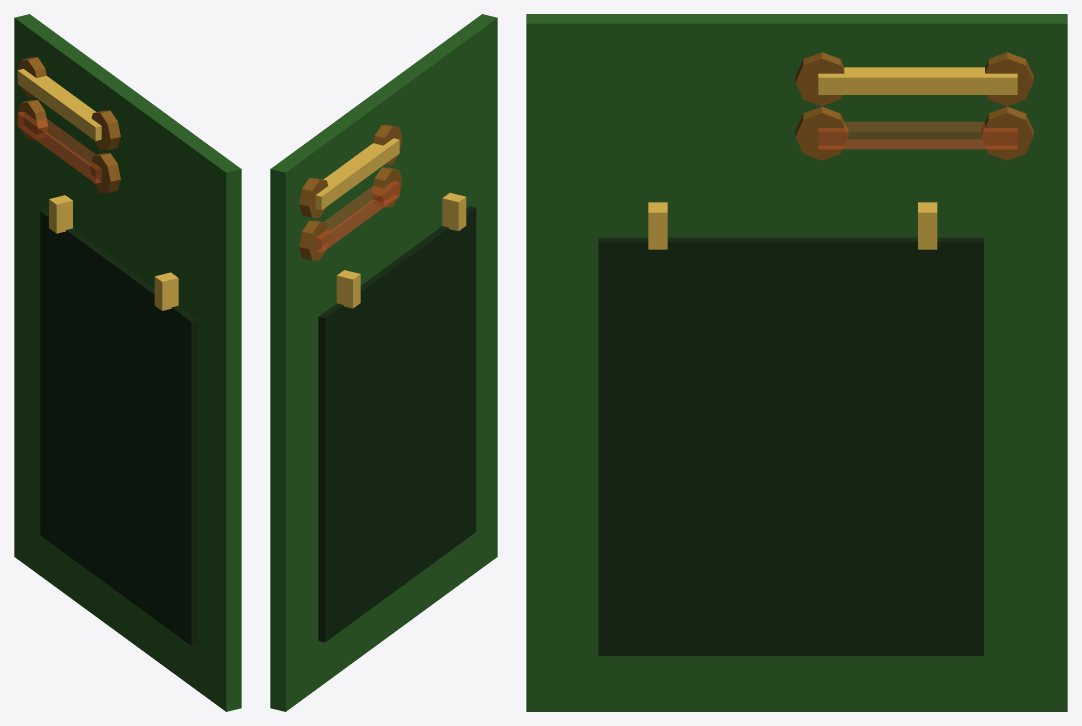
Rendered from potion7.glb.
3 views of the same model, side by side, from view 1: azimuth 30°, elevation 25°; view 2: azimuth 150°, elevation 25°; view 3: azimuth 270°, elevation 25° (orthographic). The views are drawn at different scales.
Visible parts, largest first — view 1: Cube.009, Cube.012, Cube.010, Cube.011, Cylinder.013, Cylinder.011, Cube.014, Cylinder.012, Cube.013, Cylinder.010; view 2: Cube.009, Cube.012, Cube.010, Cube.011, Cylinder.011, Cylinder.013, Cube.013, Cube.014, Cylinder.010, Cylinder.012; view 3: Cube.009, Cube.012, Cube.010, Cube.011, Cylinder.013, Cylinder.011, Cylinder.012, Cylinder.010, Cube.013, Cube.014.
Part boxes in pixels (x1=…): Cube.009: x1=14, y1=14, x2=241, y2=711; Cube.012: x1=40, y1=209, x2=197, y2=645; Cube.010: x1=17, y1=69, x2=101, y2=140; Cube.011: x1=17, y1=111, x2=101, y2=183; Cylinder.013: x1=90, y1=153, x2=120, y2=193; Cylinder.011: x1=17, y1=100, x2=48, y2=139; Cube.014: x1=154, y1=272, x2=178, y2=310; Cylinder.012: x1=91, y1=110, x2=120, y2=150; Cube.013: x1=49, y1=195, x2=72, y2=233; Cylinder.010: x1=17, y1=57, x2=46, y2=97; Cube.009: x1=270, y1=14, x2=497, y2=711; Cube.012: x1=318, y1=206, x2=476, y2=642; Cube.010: x1=315, y1=138, x2=399, y2=210; Cube.011: x1=316, y1=181, x2=399, y2=252; Cylinder.011: x1=299, y1=220, x2=329, y2=260; Cylinder.013: x1=371, y1=167, x2=402, y2=207; Cube.013: x1=336, y1=270, x2=360, y2=308; Cube.014: x1=442, y1=193, x2=466, y2=231; Cylinder.010: x1=299, y1=178, x2=328, y2=217; Cylinder.012: x1=373, y1=125, x2=402, y2=164; Cube.009: x1=526, y1=14, x2=1067, y2=711; Cube.012: x1=598, y1=237, x2=983, y2=655; Cube.010: x1=818, y1=67, x2=1017, y2=94; Cube.011: x1=818, y1=122, x2=1017, y2=149; Cylinder.013: x1=795, y1=106, x2=848, y2=160; Cylinder.011: x1=981, y1=106, x2=1033, y2=160; Cylinder.012: x1=795, y1=52, x2=844, y2=106; Cylinder.010: x1=985, y1=52, x2=1033, y2=106; Cube.013: x1=918, y1=202, x2=937, y2=249; Cube.014: x1=648, y1=202, x2=667, y2=249.
Size of the model in its own units: 0.1514 by 1.62 by 1.16.
